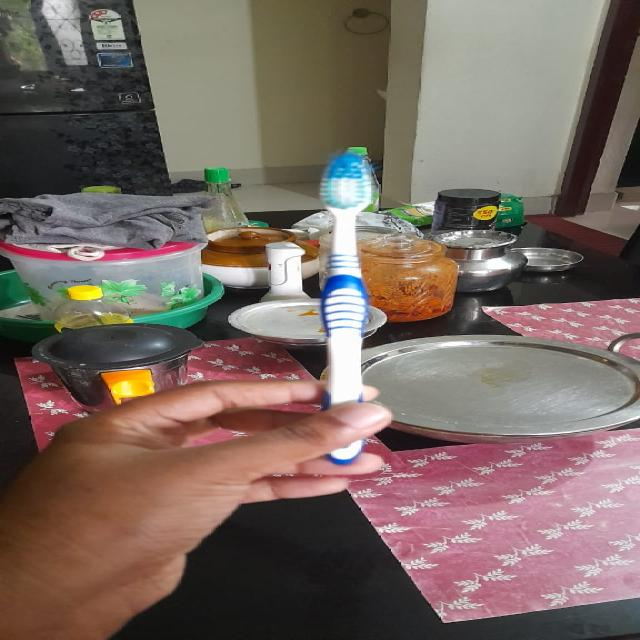Tooth_Brush - Non Recyclable: (278, 129, 430, 477)
